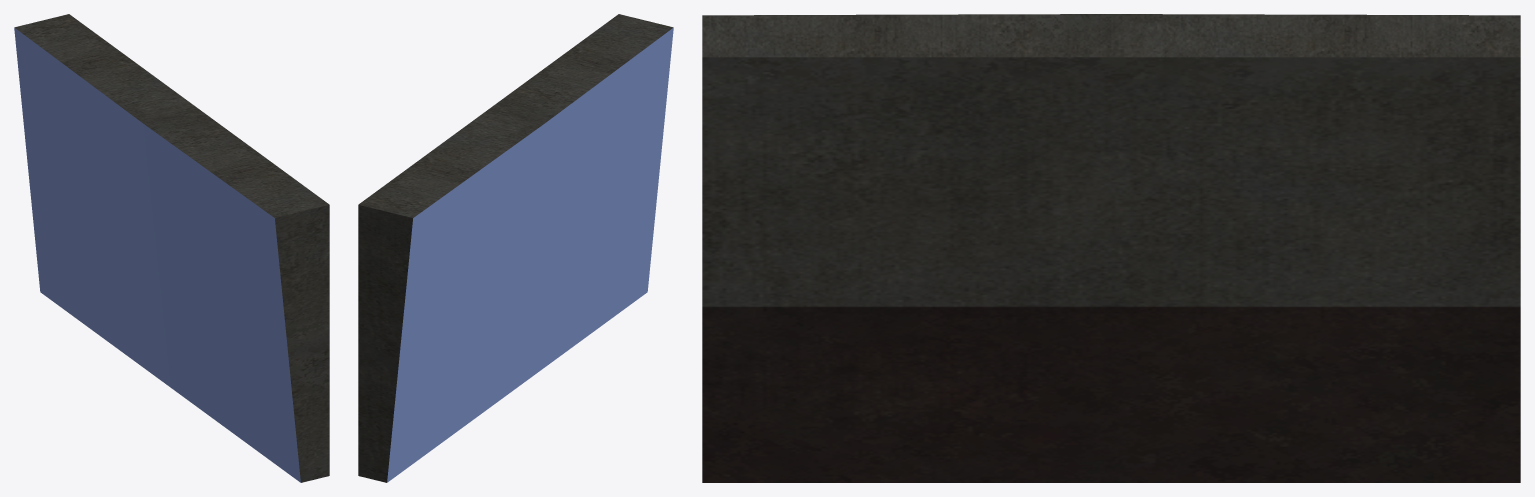
File: GarageDoor.glb
3 renders of one model, left to right at view 1: azimuth 30°, elevation 25°; view 2: azimuth 150°, elevation 25°; view 3: azimuth 270°, elevation 25°, orthographic. The views are drawn at different scales.
Parts seen in each view (by area): view 1: DoorGarage; view 2: DoorGarage; view 3: DoorGarage.
Part boxes in pixels (<box>): DoorGarage: <box>14,14,329,482</box>; DoorGarage: <box>358,14,673,482</box>; DoorGarage: <box>702,14,1520,482</box>.
Bounding box in the file's own units: 1.06 × 4.85 × 8.46.
2 materials, 1 textured.
